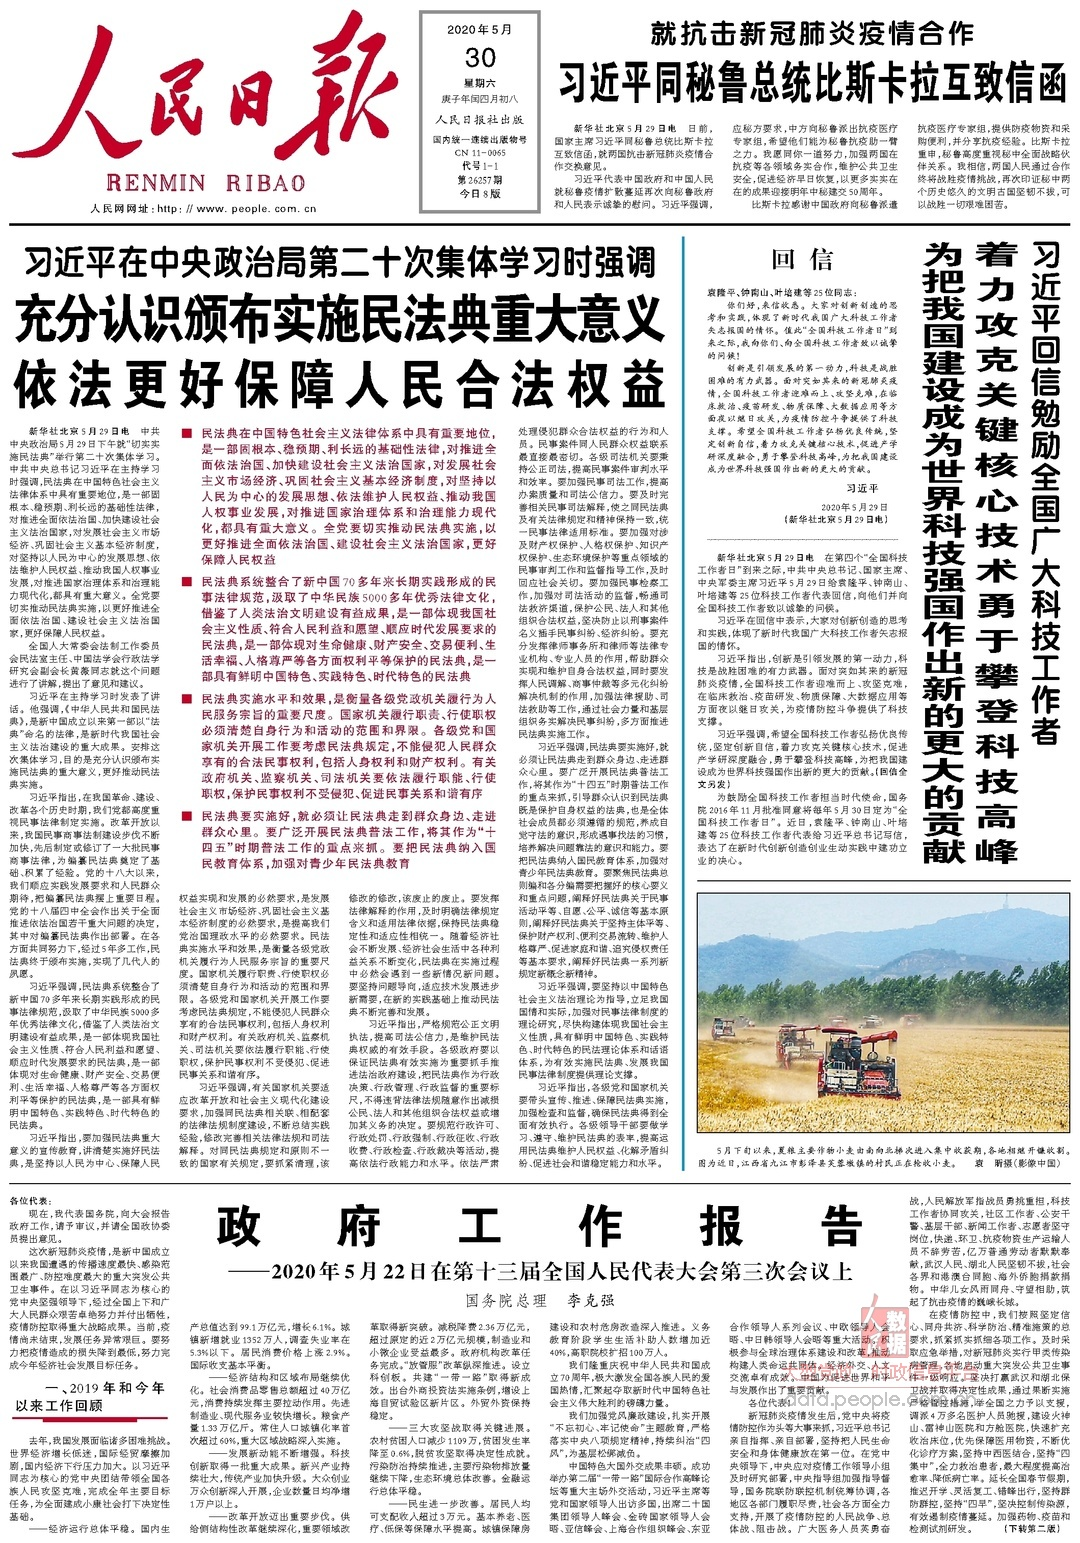pic: (694, 886, 1074, 1138)
